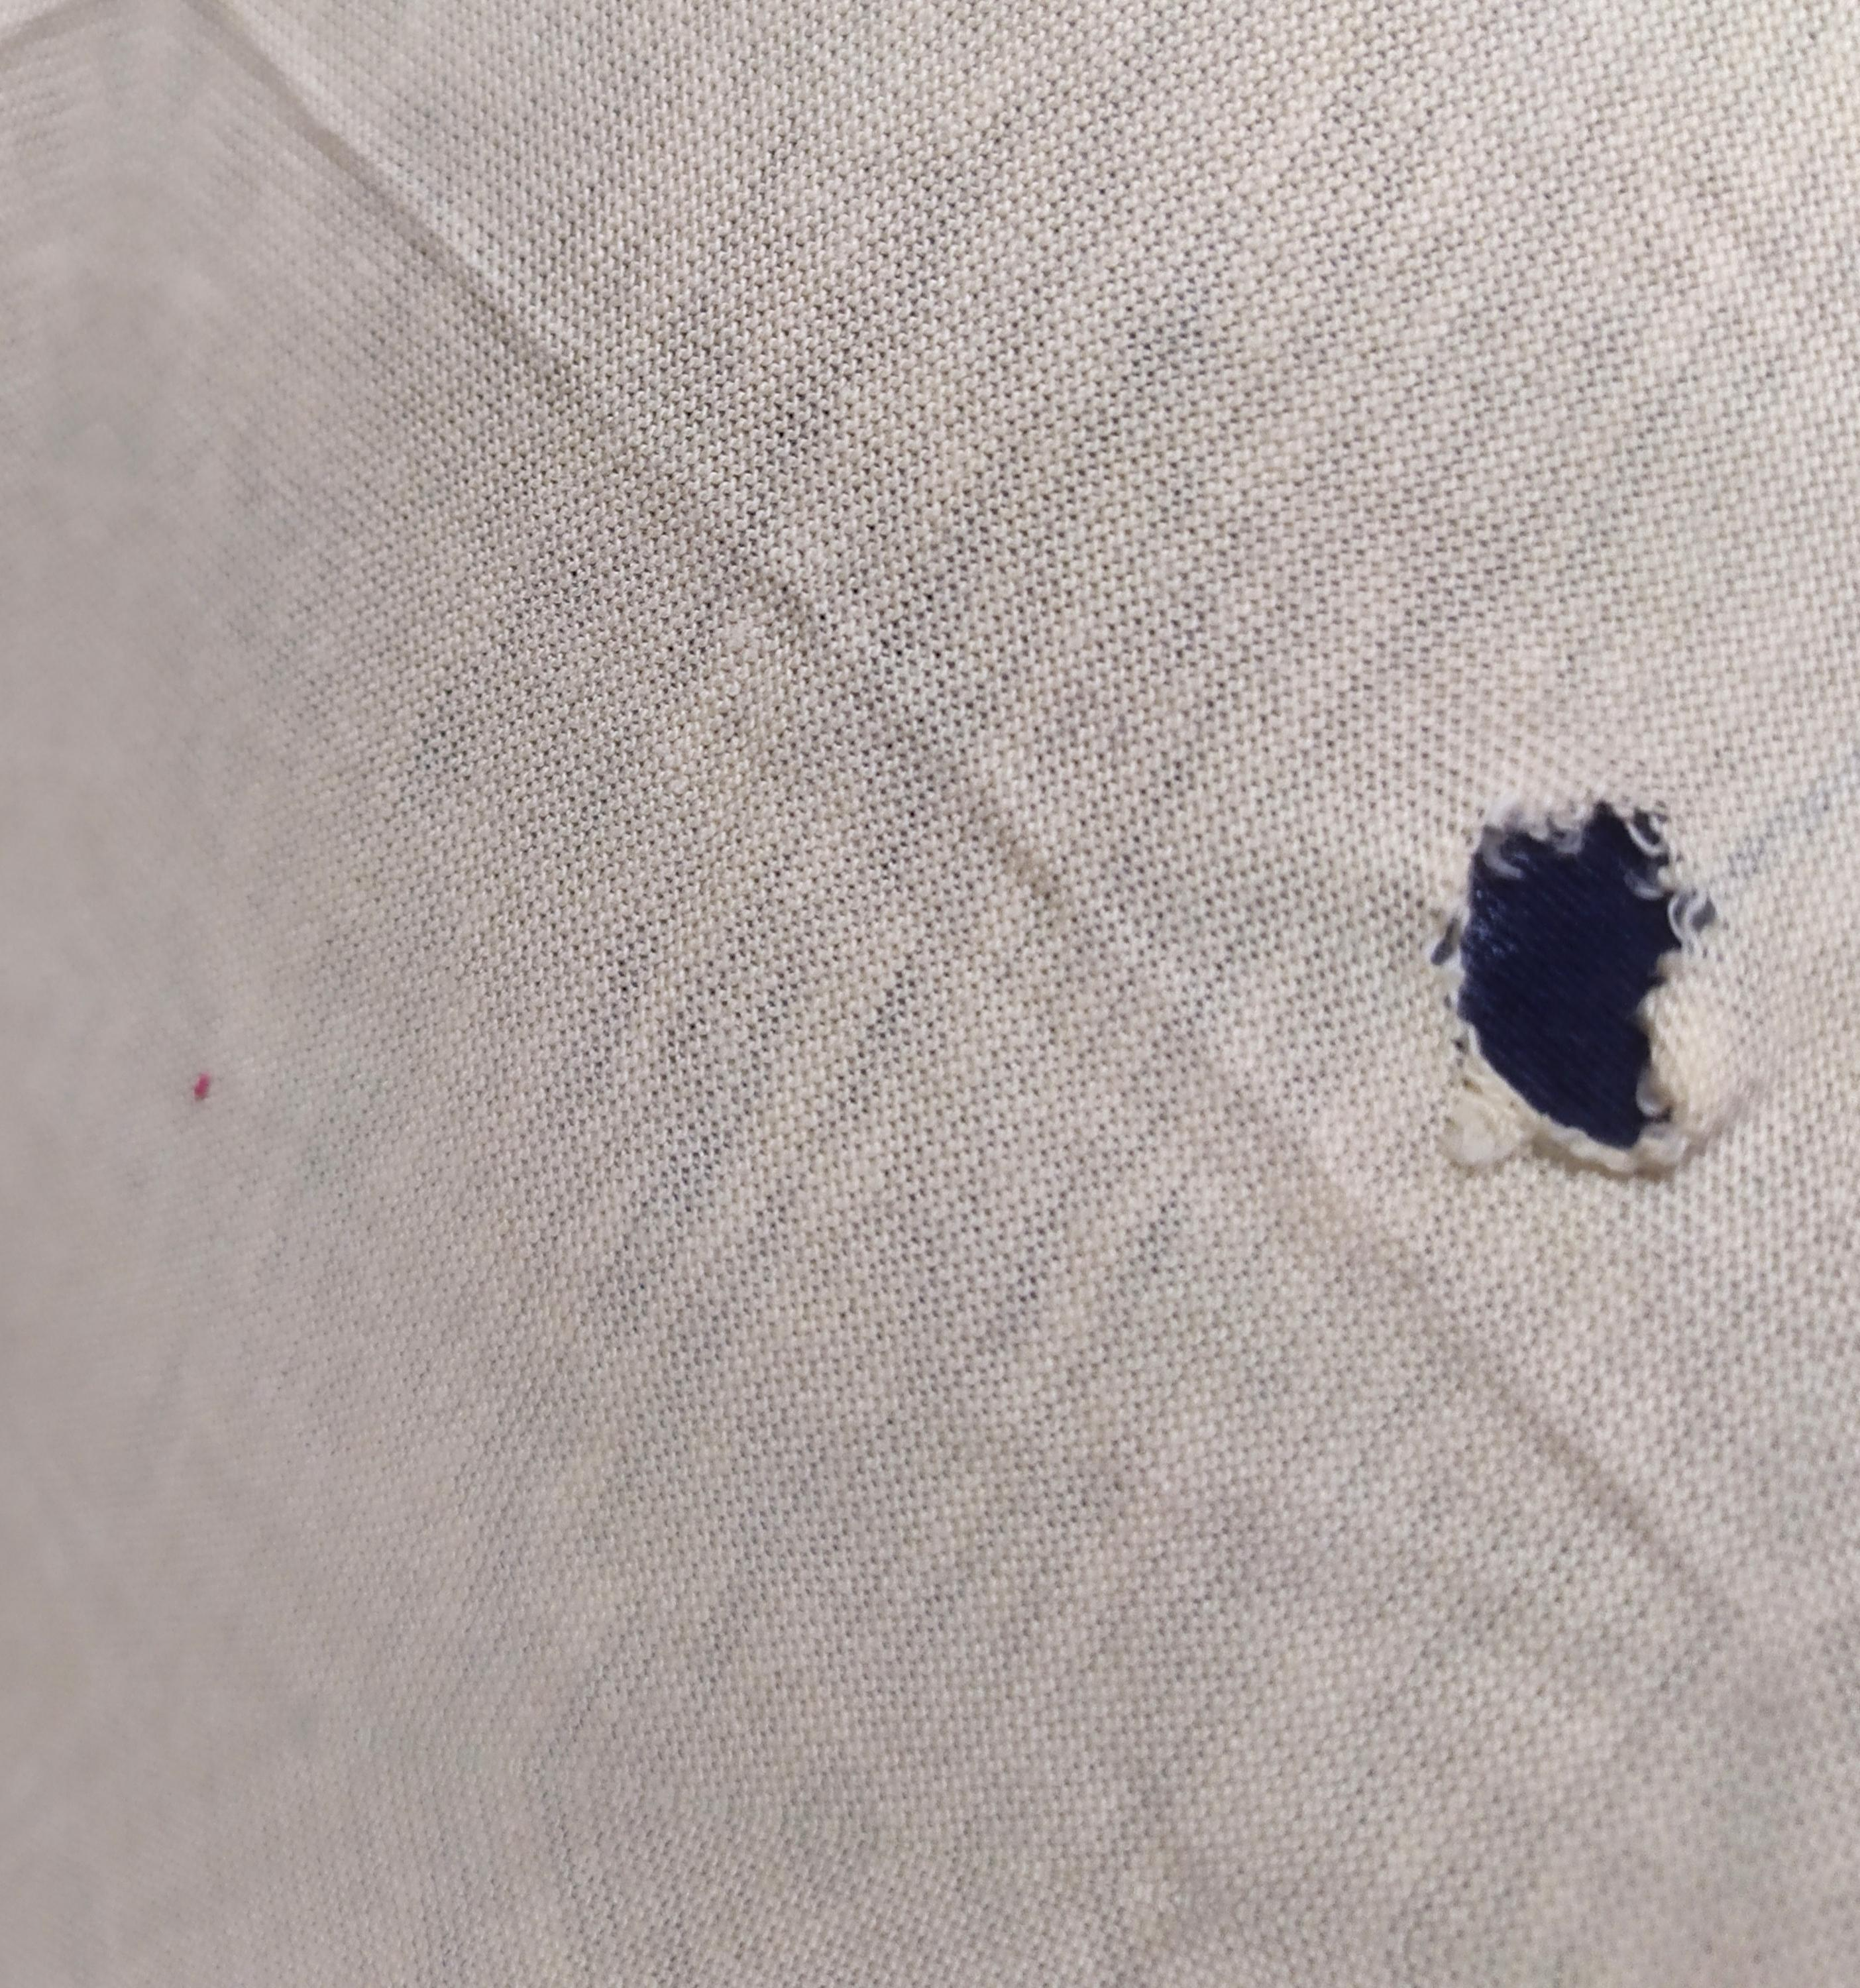hole: (1421, 780, 1739, 1194)
